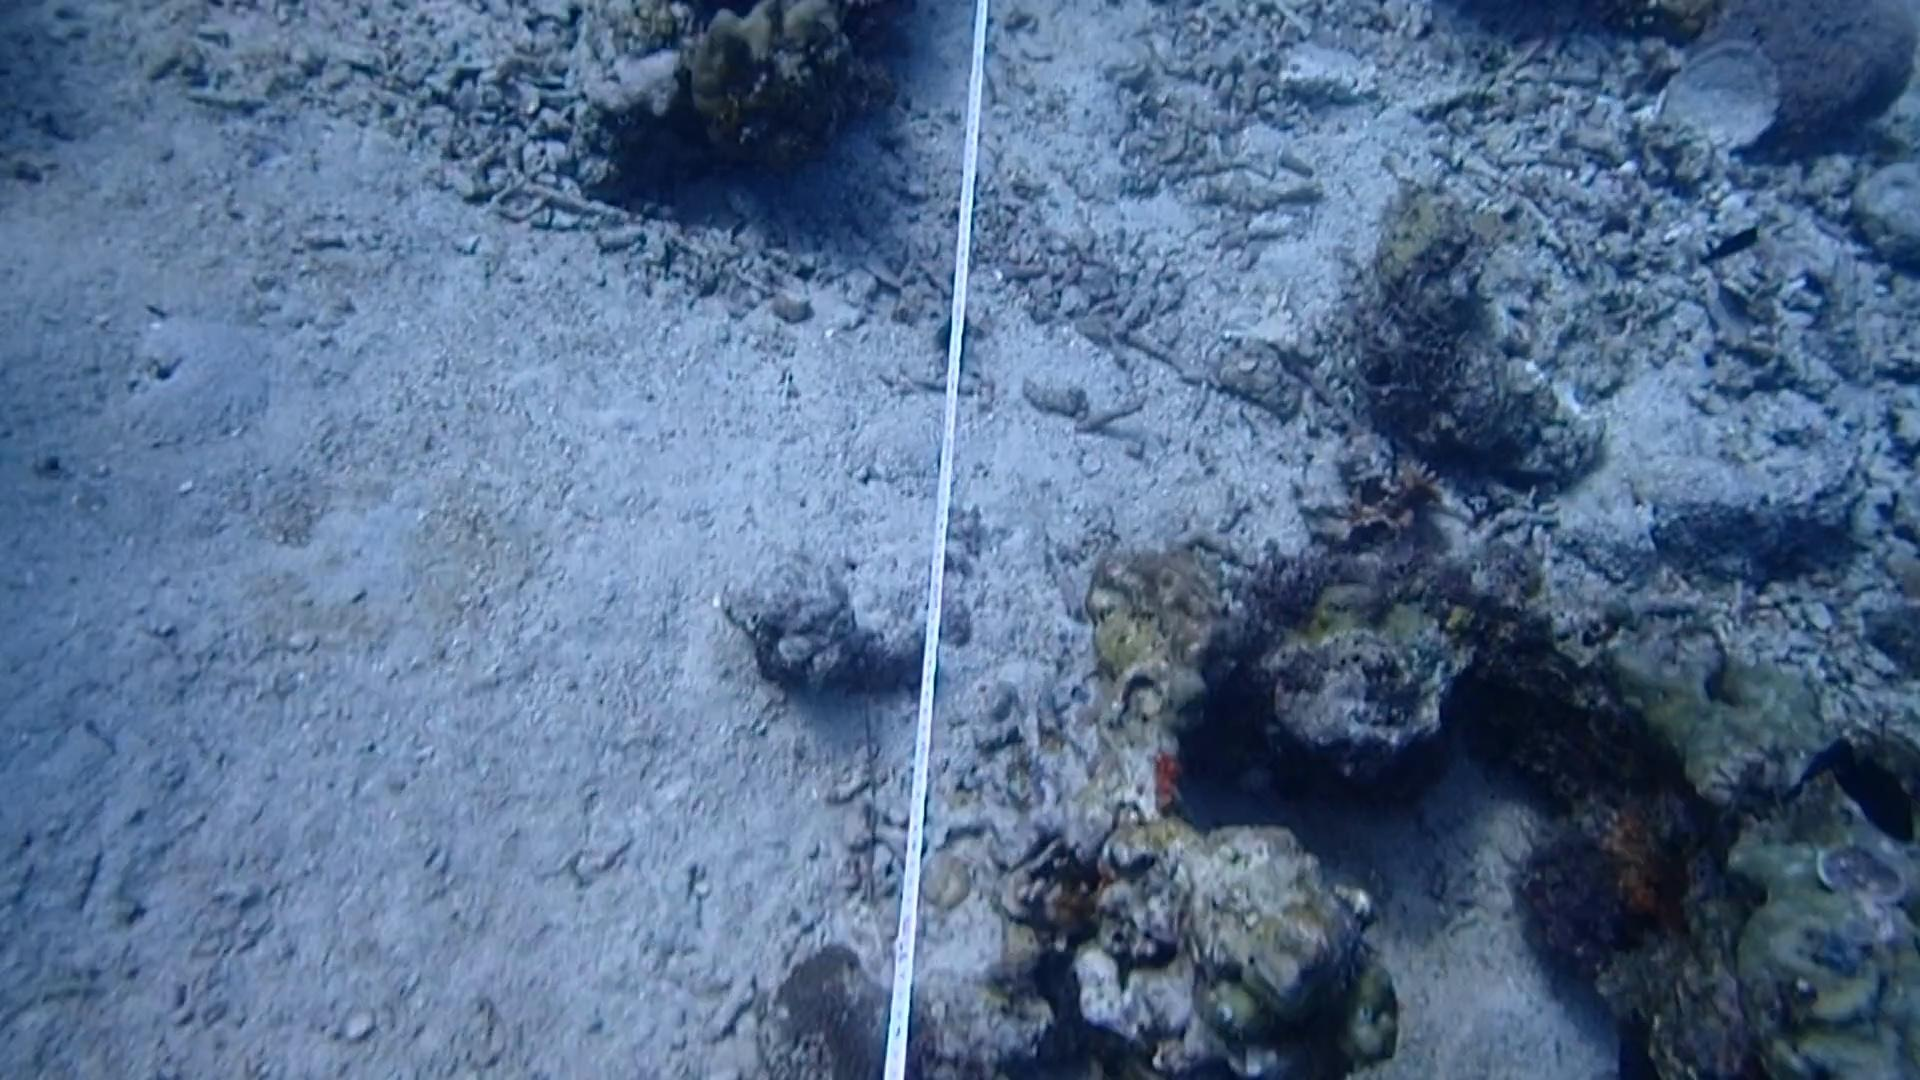Dark Fish: (1818, 729, 1920, 844), (1688, 211, 1764, 281)
